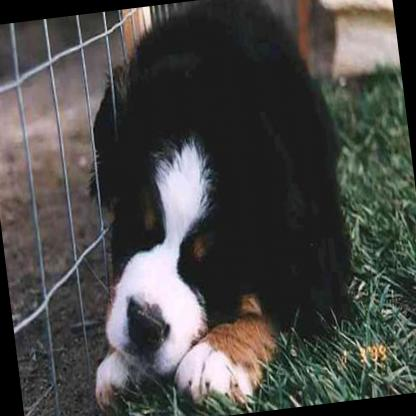Bernese_mountain_dog: (46, 0, 372, 416)
